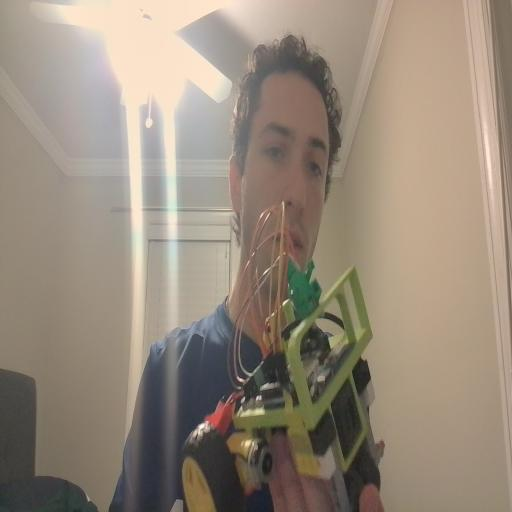green LEGO minifig: (284, 254, 323, 318)
